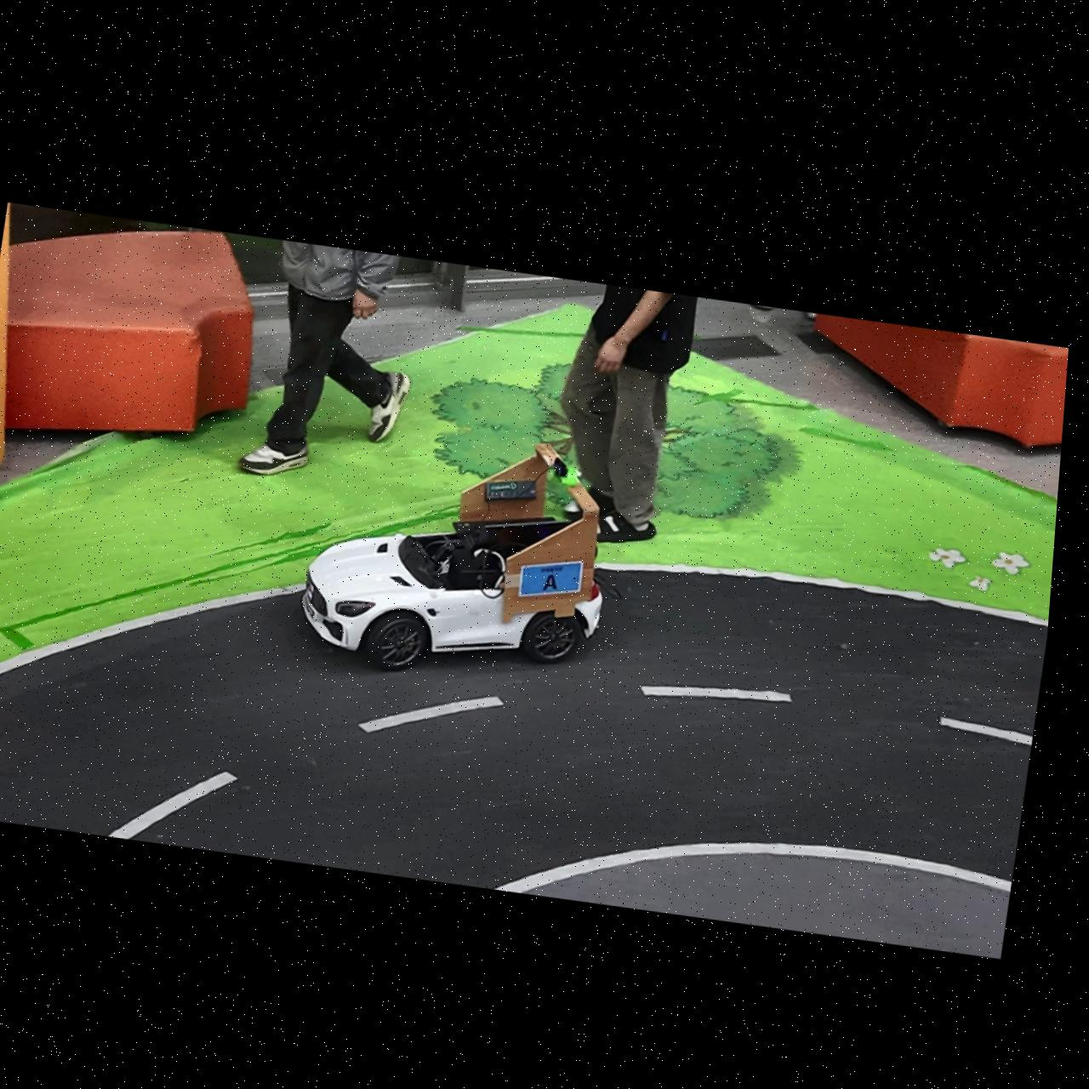broken_line: (108, 772, 238, 839), (358, 697, 504, 733), (940, 717, 1032, 746), (640, 687, 792, 702)
